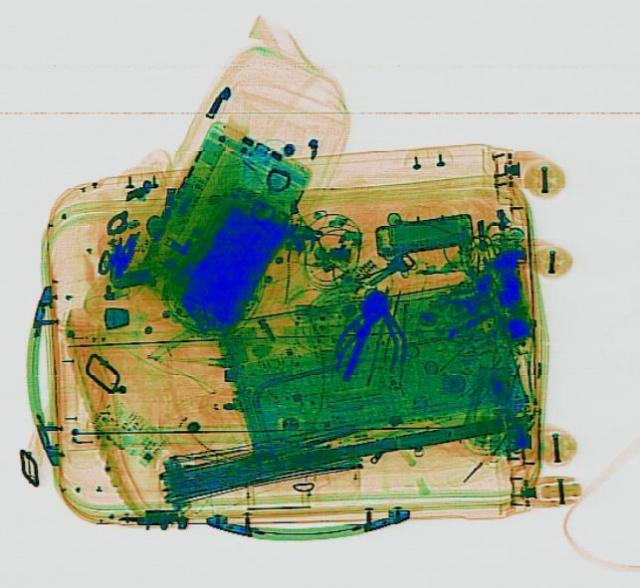Pliers: (330, 282, 410, 378), (330, 291, 406, 375)
